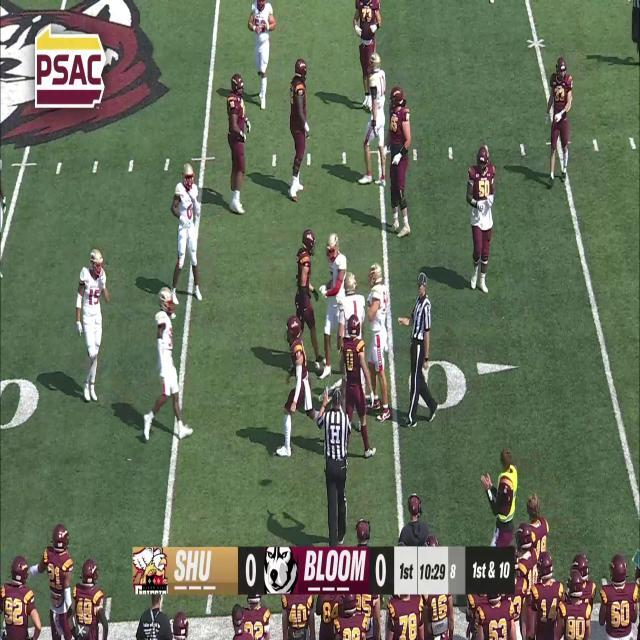football: (314, 360, 324, 377)
